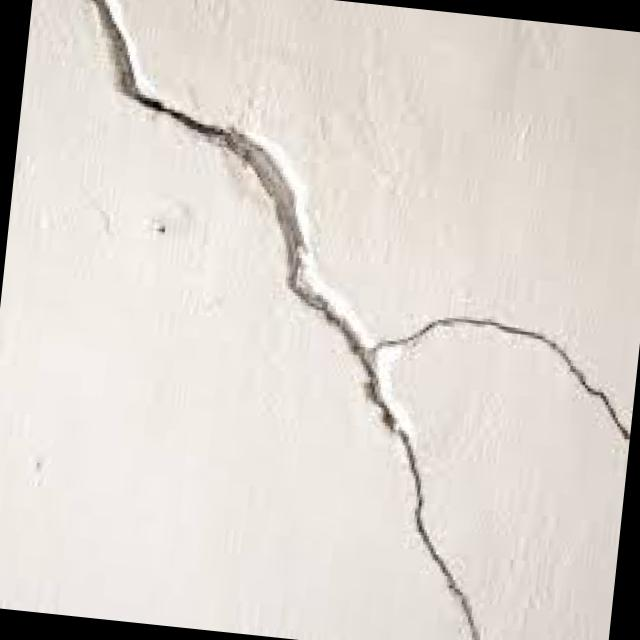crack: (43, 0, 403, 356), (329, 343, 512, 640), (356, 297, 638, 439)
